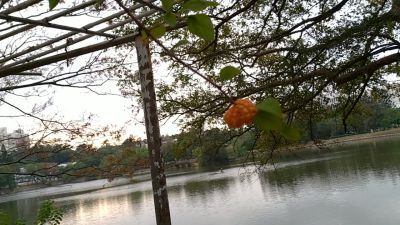eggs: (224, 97, 260, 130)
